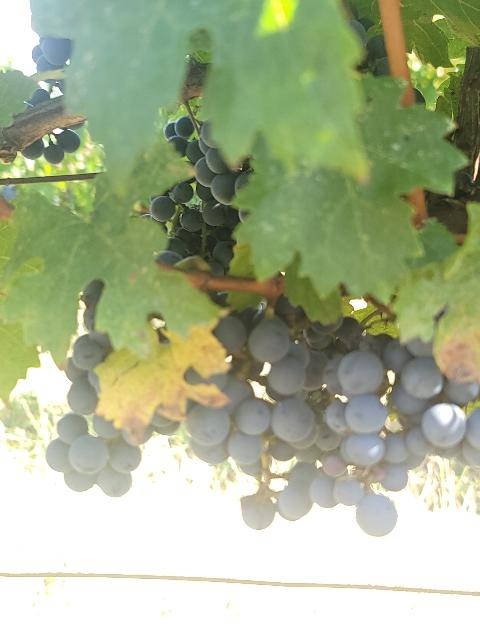grapes: (185, 295, 480, 535), (46, 280, 179, 498), (150, 122, 252, 275)
